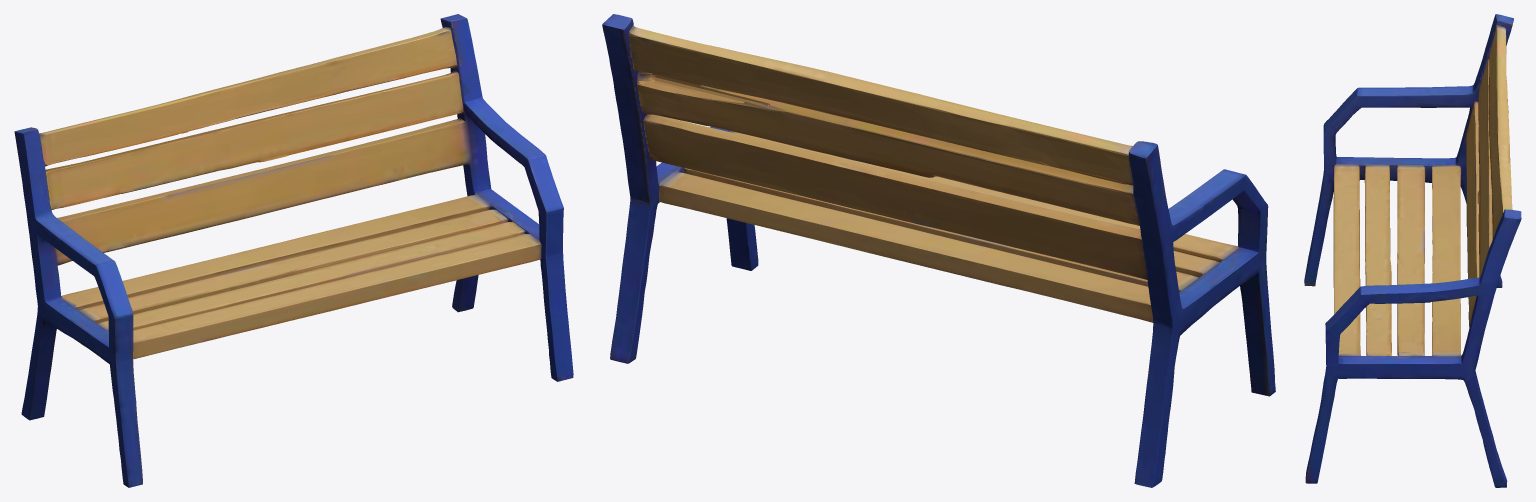
Rendered from prop_bench.glb.
3 renders of one model, left to right at view 1: azimuth 30°, elevation 25°; view 2: azimuth 150°, elevation 25°; view 3: azimuth 270°, elevation 25°, orthographic. The views are drawn at different scales.
Parts seen in each view (by area): view 1: groundshift; view 2: groundshift; view 3: groundshift.
Boxes of the visible parts, <box> form: groundshift: <box>14,14,573,487</box>; groundshift: <box>602,14,1275,487</box>; groundshift: <box>1304,14,1521,487</box>.
Size of the model in its own units: 1.48 by 0.9 by 0.6534.
Materials: 1 (1 with a texture image).
